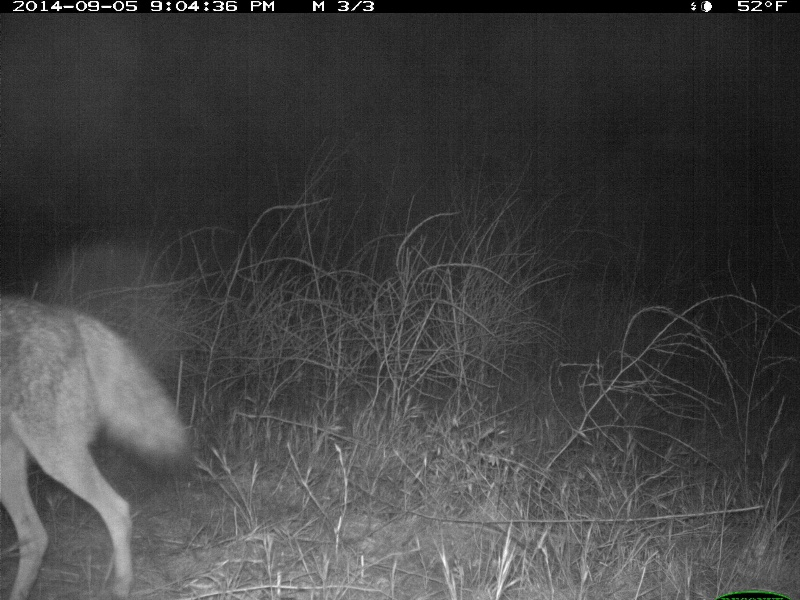coyote: (4, 288, 196, 600)
